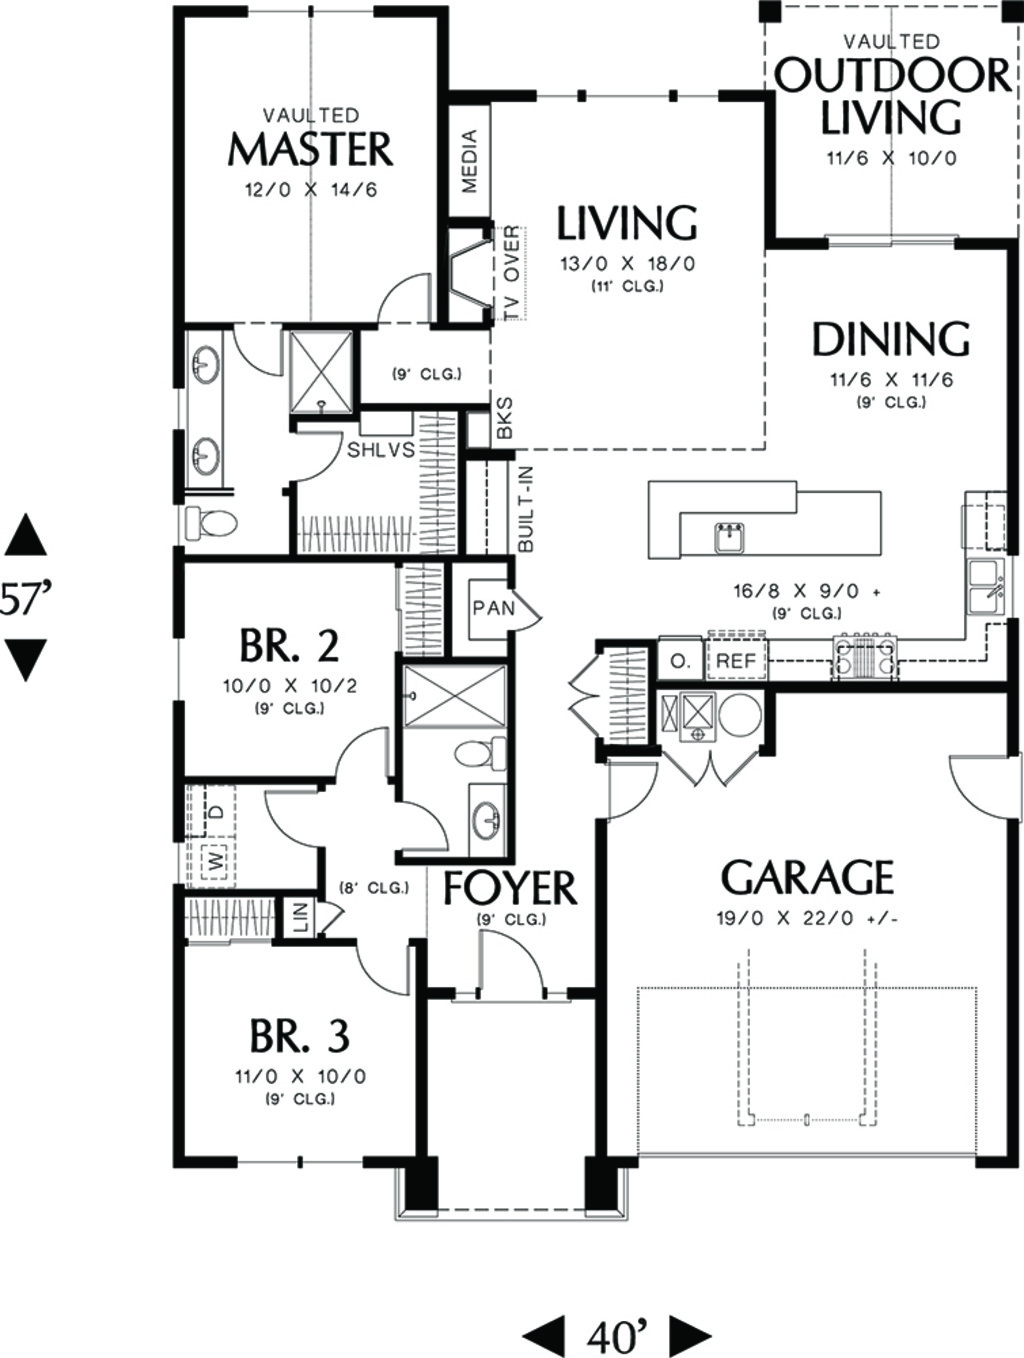door: (549, 635, 617, 760), (951, 737, 1021, 831), (357, 258, 440, 331), (332, 712, 402, 797), (468, 920, 542, 997), (666, 741, 772, 792), (392, 795, 449, 867), (593, 760, 646, 837), (227, 326, 291, 386), (357, 937, 415, 1001), (264, 788, 325, 846), (291, 429, 344, 490)
large_sink: (436, 726, 534, 780), (168, 490, 244, 552)
sink: (689, 505, 763, 571)
small_sink: (176, 337, 236, 492), (468, 786, 512, 858)
twin_sink: (963, 556, 1021, 626)
window: (821, 224, 968, 251)
